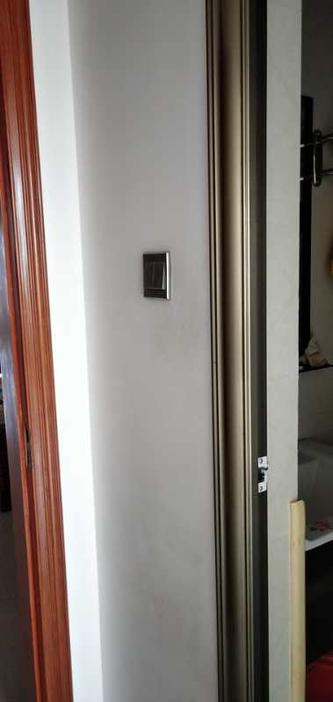switch: (146, 254, 169, 296)
